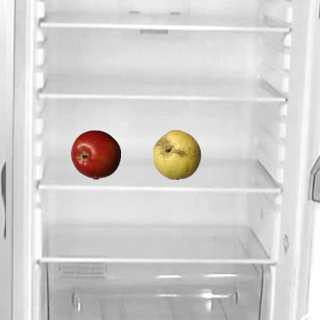Apple Braeburn: (70, 129, 120, 179)
Apple Golden 1: (151, 129, 201, 179)
